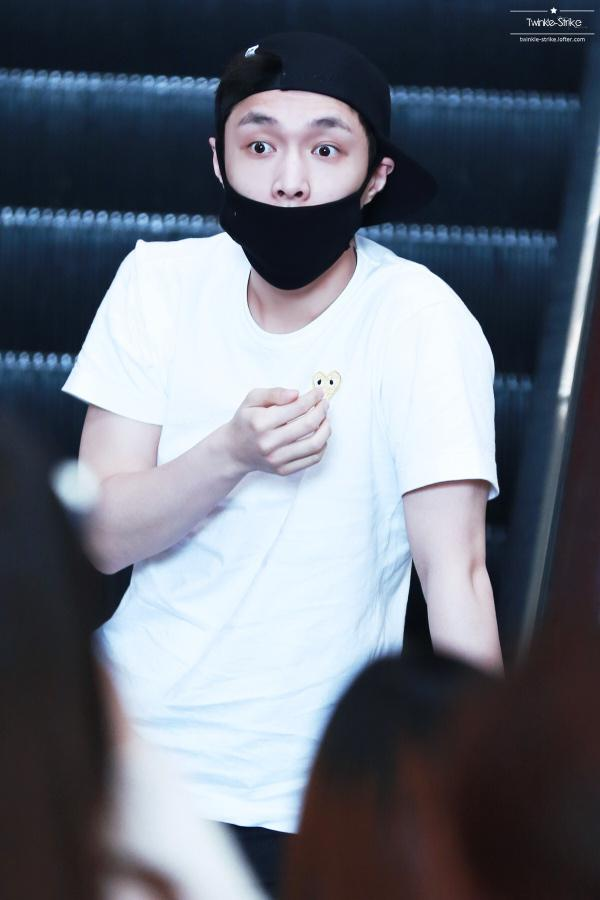WRONG: (219, 91, 371, 290)
